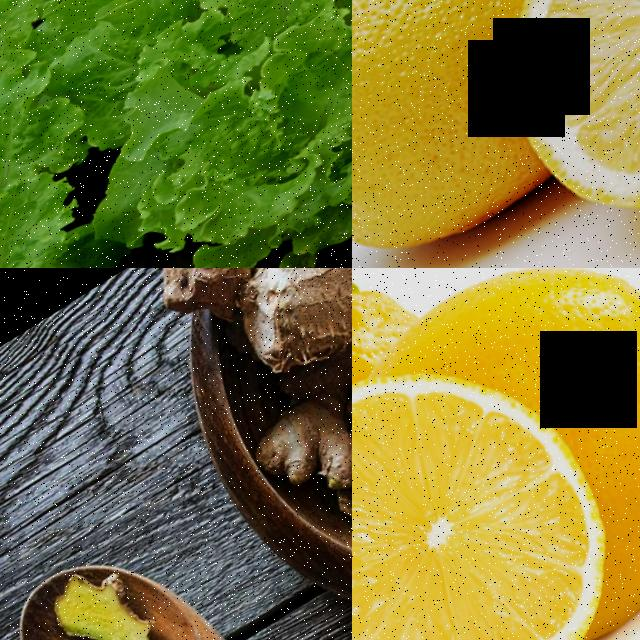ginger: (125, 268, 352, 437), (236, 372, 352, 535), (11, 549, 192, 640)
lemon: (352, 336, 640, 640), (446, 268, 640, 640), (352, 0, 597, 268), (497, 0, 640, 260)
lettuce: (22, 0, 352, 268), (0, 69, 235, 268), (0, 0, 107, 259), (0, 0, 352, 56)
